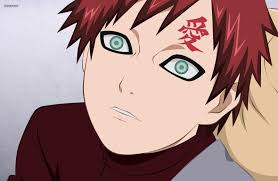gaara: (82, 2, 244, 157)
